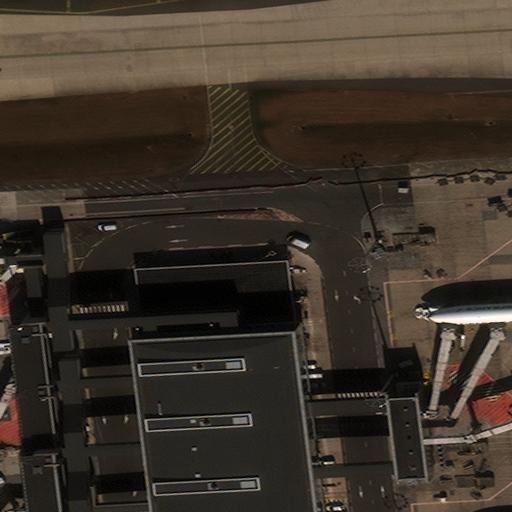Large Civil Transport: (423, 271, 511, 351)
